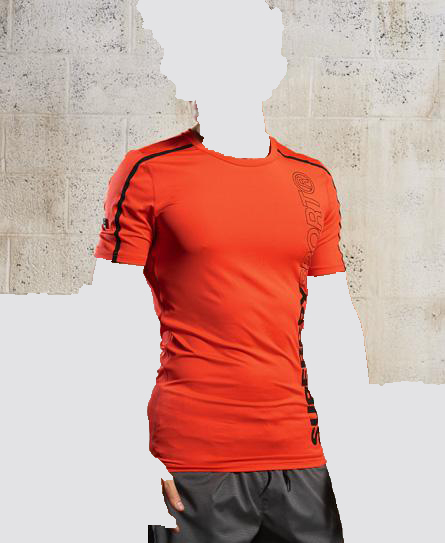teeshirt: (93, 131, 353, 472)
